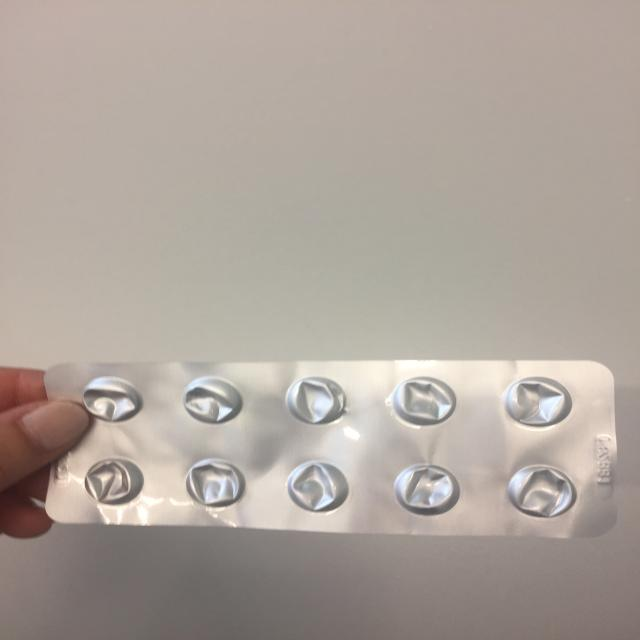Empty: (277, 459, 355, 514), (504, 463, 579, 519), (389, 462, 462, 516), (388, 373, 461, 426), (178, 456, 248, 511), (500, 376, 574, 428), (279, 375, 352, 427), (78, 455, 148, 506), (179, 376, 246, 428), (75, 375, 145, 424)
